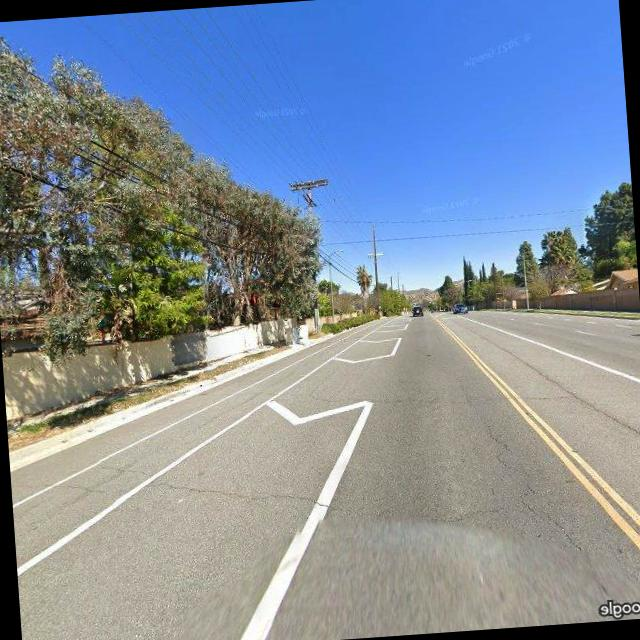crack: (474, 395, 597, 575), (103, 444, 349, 522), (296, 375, 496, 422), (34, 478, 116, 500)
